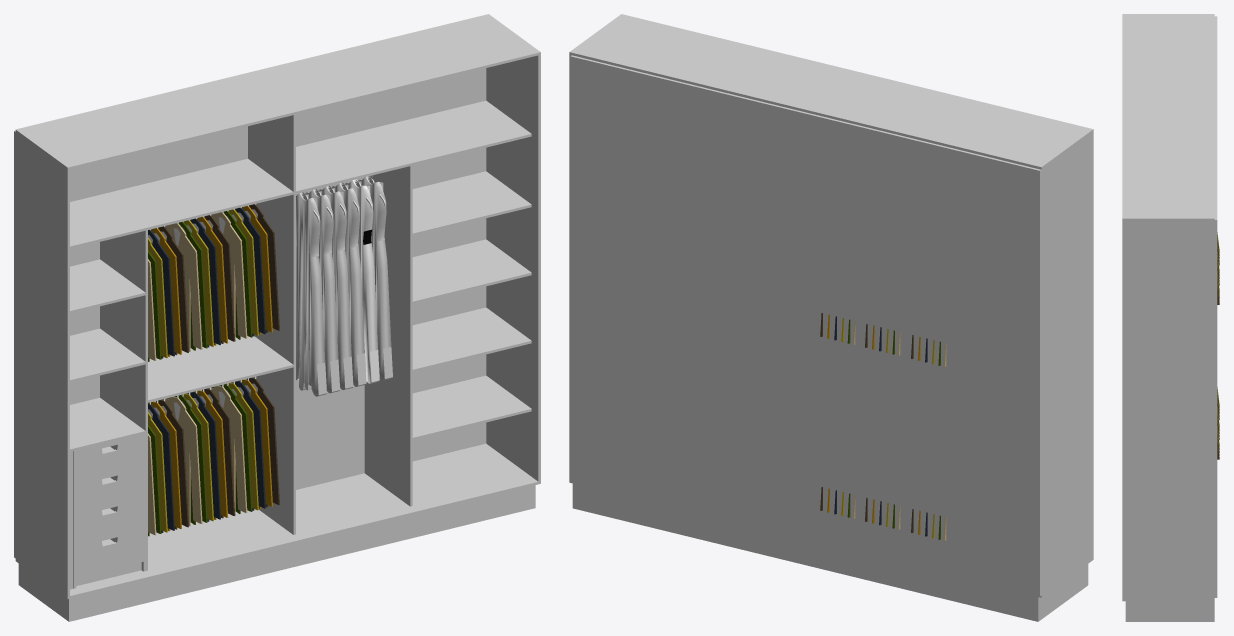
The model's file is closet2.fbx.
The picture shows the model from 3 angles, left to right: view 1: azimuth 30°, elevation 25°; view 2: azimuth 150°, elevation 25°; view 3: azimuth 270°, elevation 25°; orthographic projection. The views are drawn at different scales.
Visible parts, largest first — view 1: Group_013, Group_001, Group_012, Group_010, Group_003, Group_002, Group_004, Group_009, Group_011, Group_034, Group_030, Group_015 (+43 smaller); view 2: Group_013, Group_003, Group_002, Group_001, Group_004; view 3: Group_004, Group_003, Group_013, Group_001.
Part boxes in pixels (x1,y1,x2,y2): Group_013: (14,68,486,558); Group_001: (15,443,540,621); Group_012: (364,165,531,506); Group_010: (70,100,531,570); Group_003: (15,14,540,169); Group_002: (15,132,69,596); Group_004: (486,55,540,481); Group_009: (248,114,295,534); Group_011: (148,336,293,402); Group_034: (296,192,326,396); Group_030: (361,176,392,380); Group_015: (321,186,353,390); Group_013: (570,55,1041,596); Group_003: (569,14,1093,169); Group_002: (1041,132,1093,594); Group_001: (569,480,1093,621); Group_004: (569,54,571,480); Group_004: (1122,221,1214,598); Group_003: (1122,14,1214,220); Group_013: (1214,16,1217,597); Group_001: (1122,599,1214,621).
Size of the model in its own units: 2880 by 2655 by 579.
